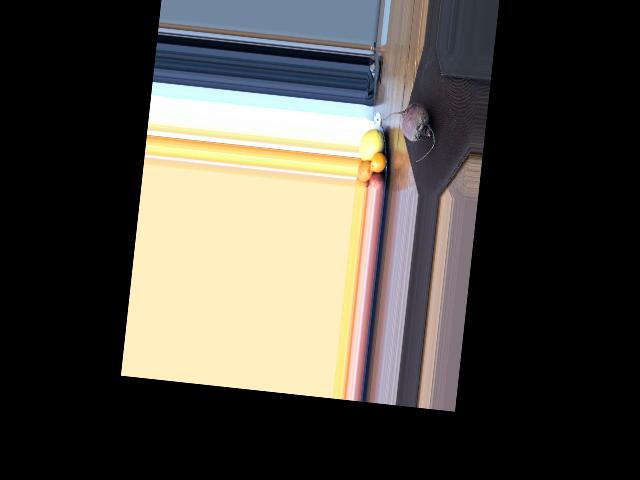beet: (381, 99, 438, 163)
